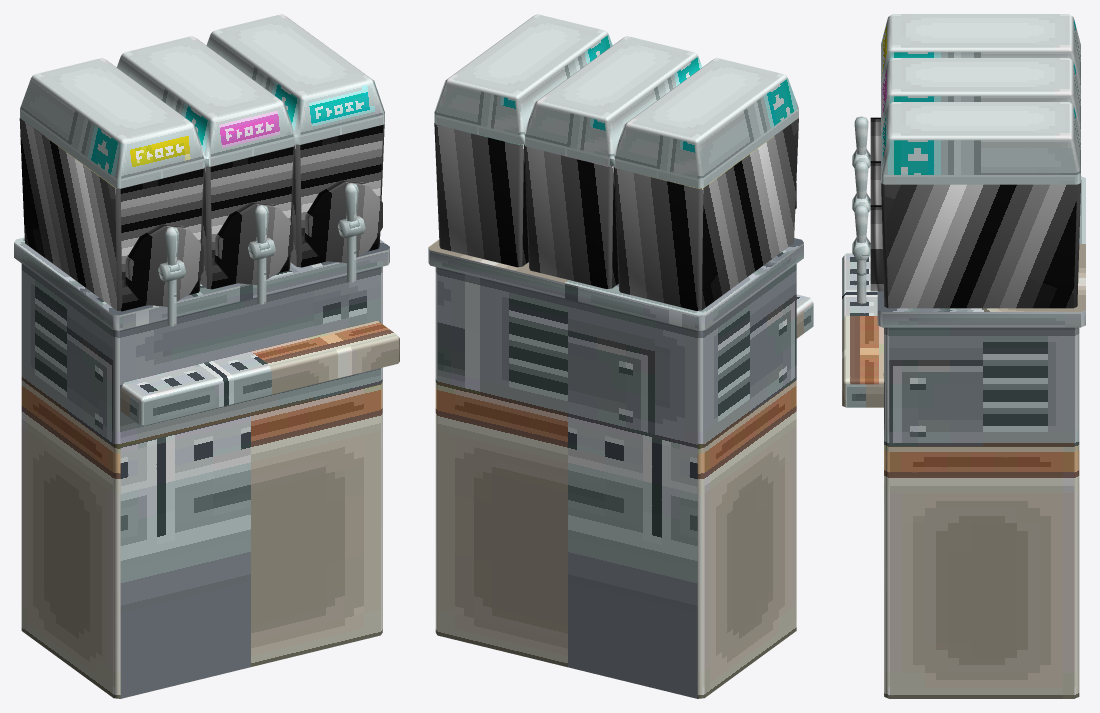
Rendered from int_frs_frozen.dae.
The picture shows the model from 3 angles, left to right: view 1: azimuth 30°, elevation 25°; view 2: azimuth 150°, elevation 25°; view 3: azimuth 270°, elevation 25°; orthographic projection.
Visible parts, largest first — view 1: int_frs_frozen; view 2: int_frs_frozen; view 3: int_frs_frozen.
Part boxes in pixels (box(x1,y1,x2,y2)): int_frs_frozen: box(14, 14, 399, 698); int_frs_frozen: box(428, 14, 813, 698); int_frs_frozen: box(842, 14, 1085, 698).
Size of the model in its own units: 24.73 by 47.34 by 18.74.
4 materials, 4 textured.
